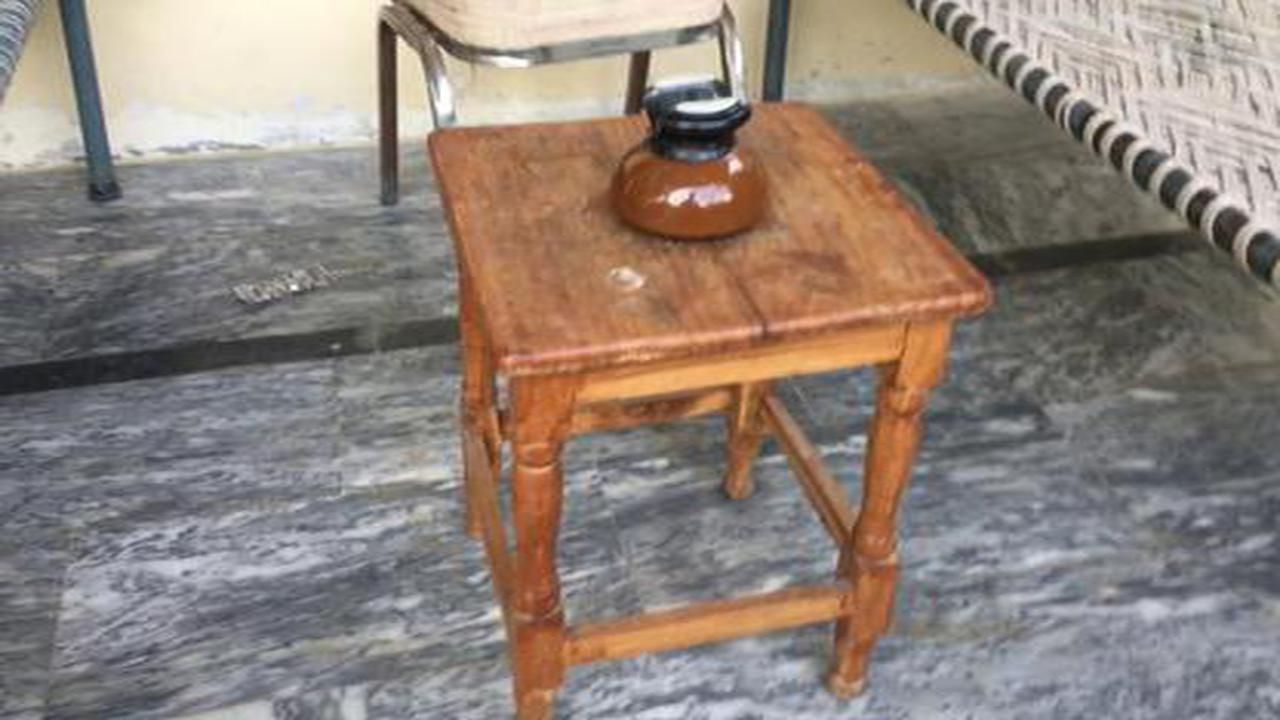insulator_pin: (579, 63, 785, 255)
